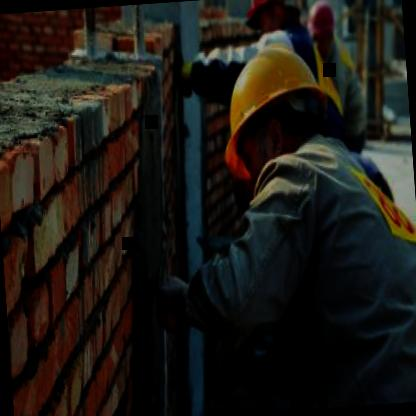helmet: (211, 22, 353, 200), (246, 0, 310, 44), (306, 0, 338, 55)
